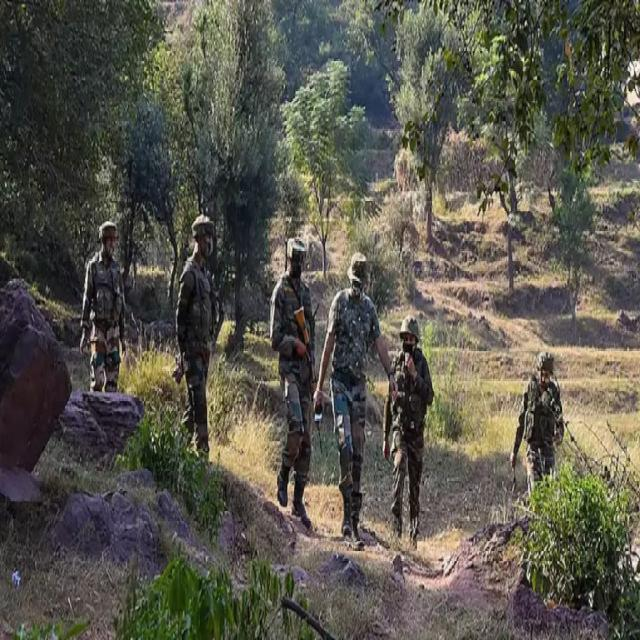Forest: (0, 0, 640, 640)
Militant: (368, 290, 457, 573), (155, 193, 242, 475), (258, 217, 333, 528), (326, 235, 384, 589), (502, 341, 582, 549), (75, 198, 146, 411)
